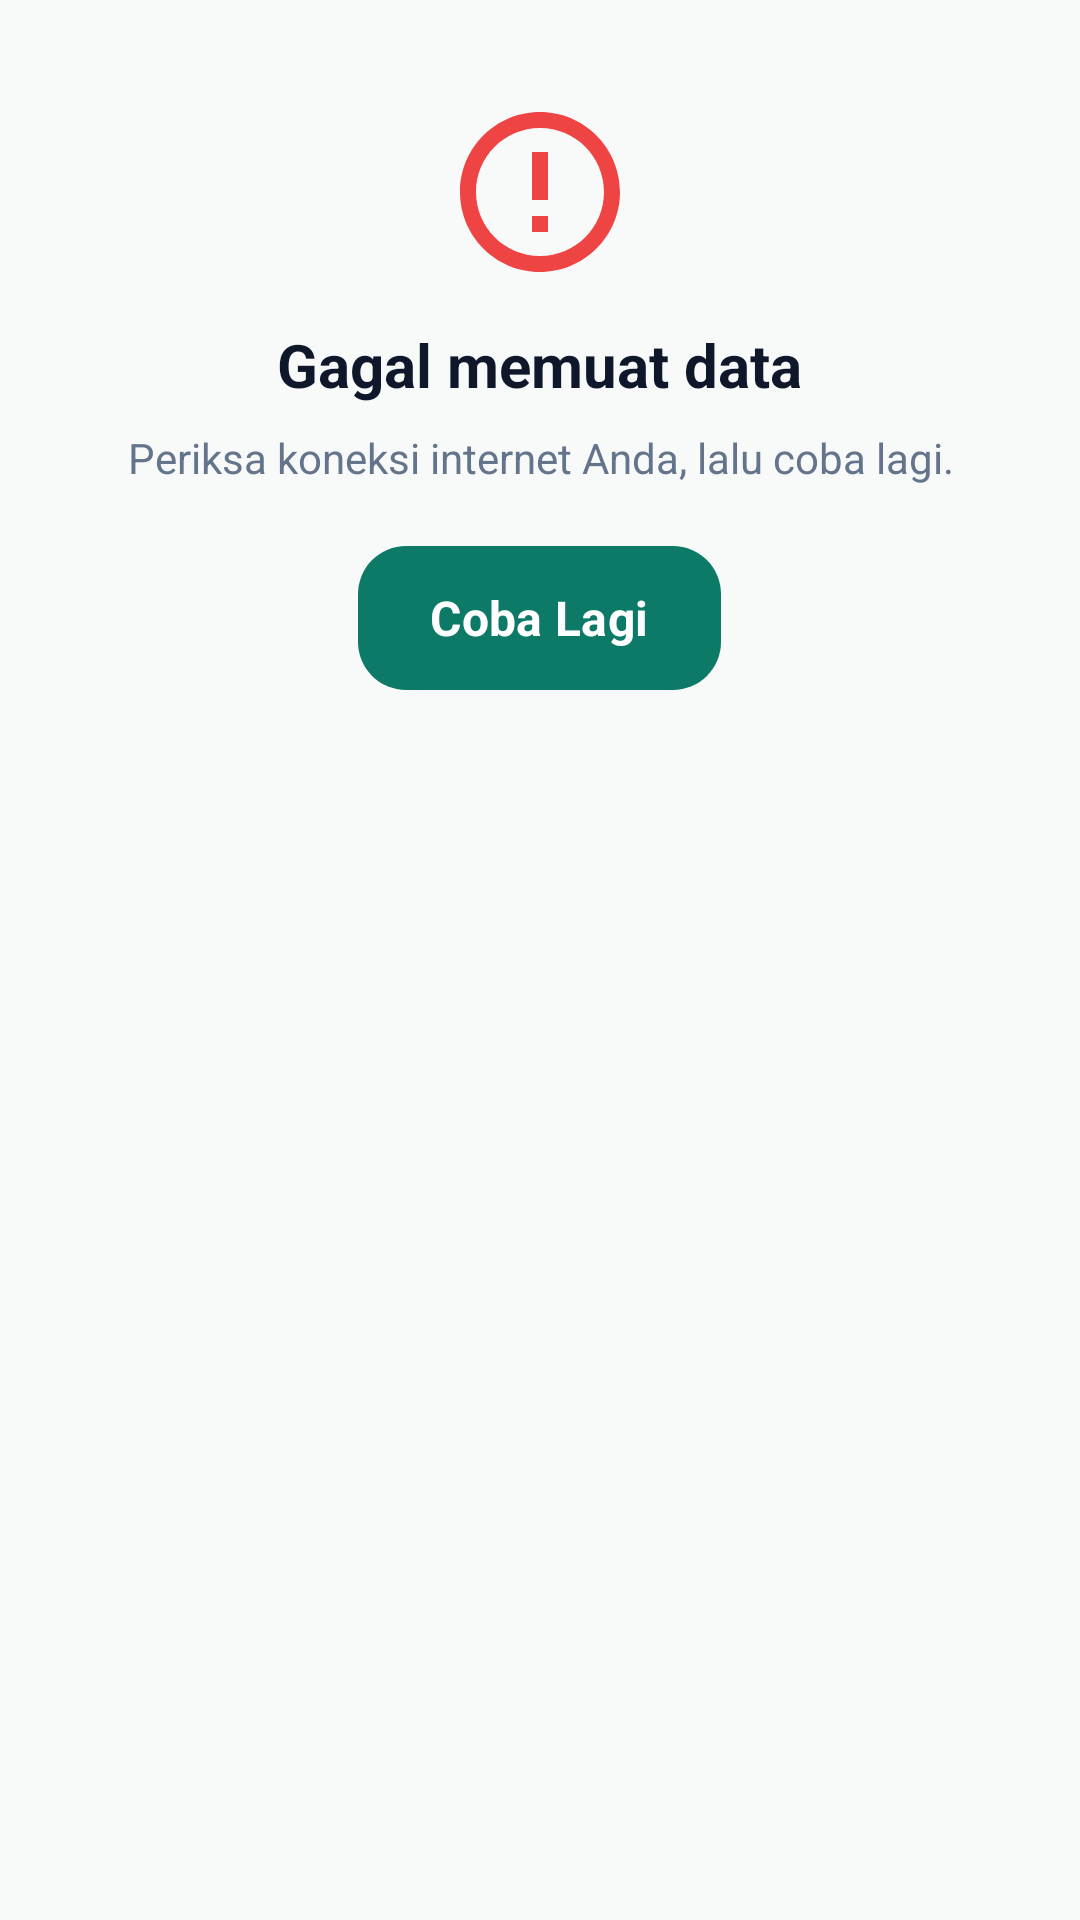

Where to tap for icons on this 1080 × 1920 app screen, as [x,y]:
error: [540,192]
